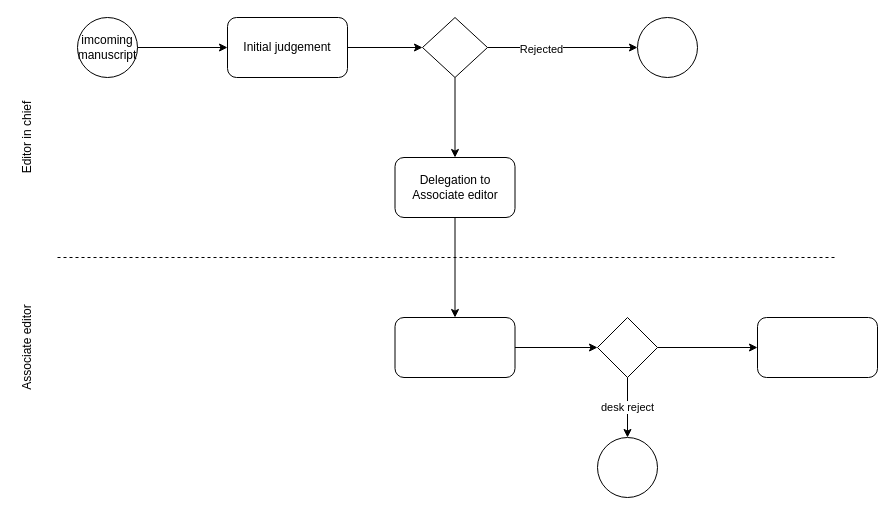
The diagram is 895 pixels wide and 515 high, and some of its shapes have lost their labels. The centre of each missing label's shape, as x and y in pixels:
Initial handling: (x=454, y=347)
Selecting reviewers: (x=817, y=347)
